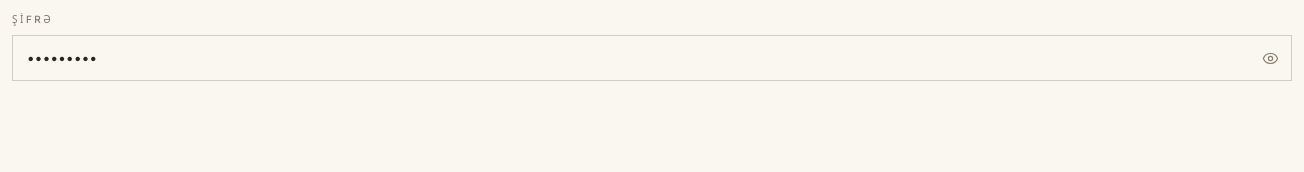
Test: AuthPasswordField › toggles between masked and visible text without submitting the form
Click the button named "Şifrəni göstər".
click(1270, 58)  # box [1248,35,1292,81]
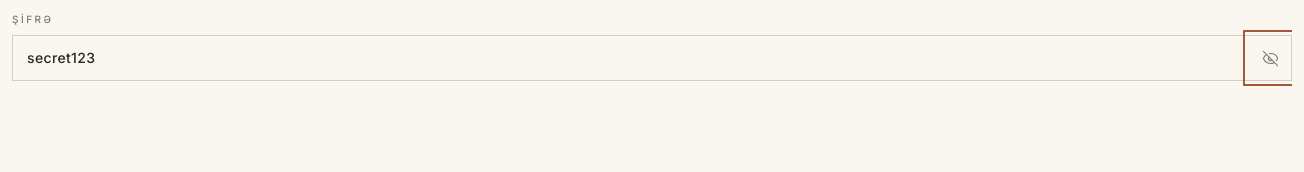
Expected: the field with placeholder "pw" shows its text, [12,35,1292,81]
Click the button named "Şifrəni gizlət".
click(1270, 58)  # box [1248,35,1292,81]
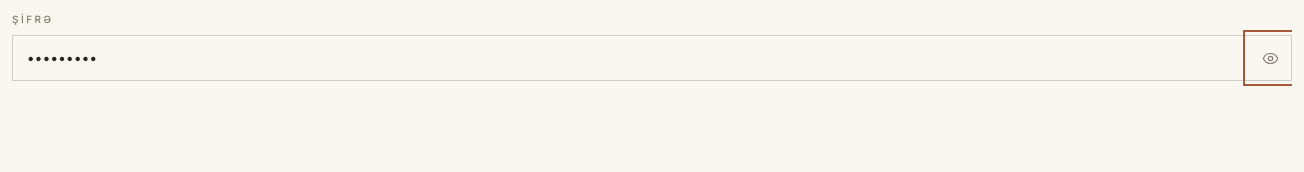
Expected: the password field with placeholder "pw" hides its text, [12,35,1292,81]
